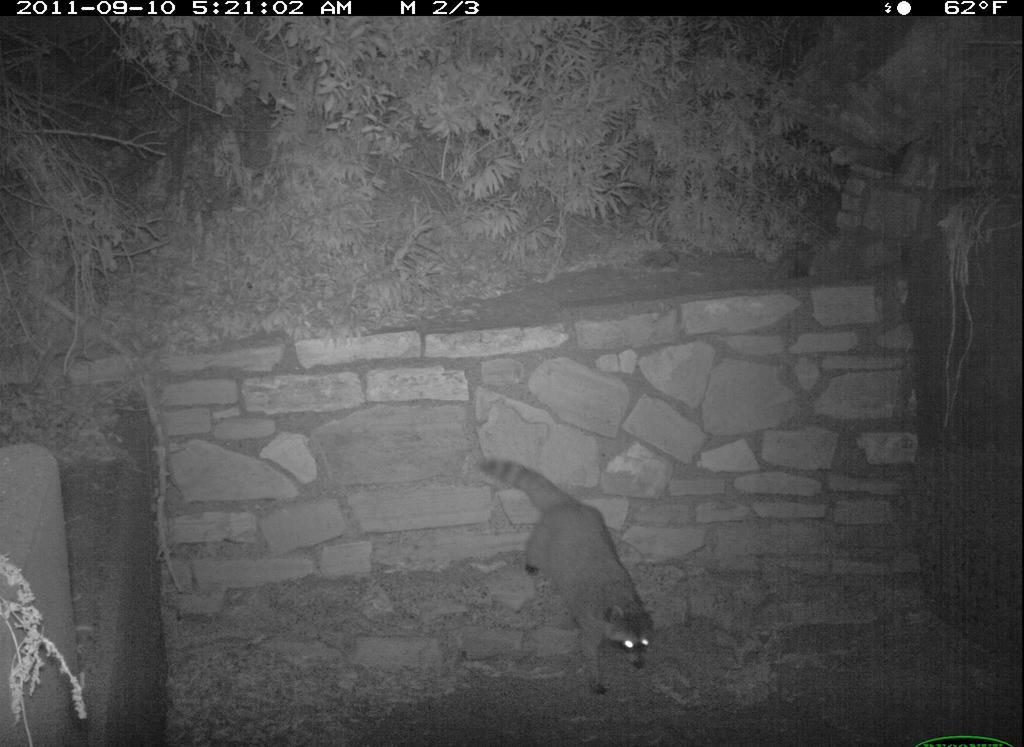raccoon: (475, 454, 660, 696)
